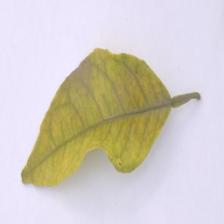greening: (14, 41, 204, 191)
